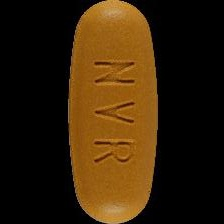0078-0563: (0, 0, 224, 224)
